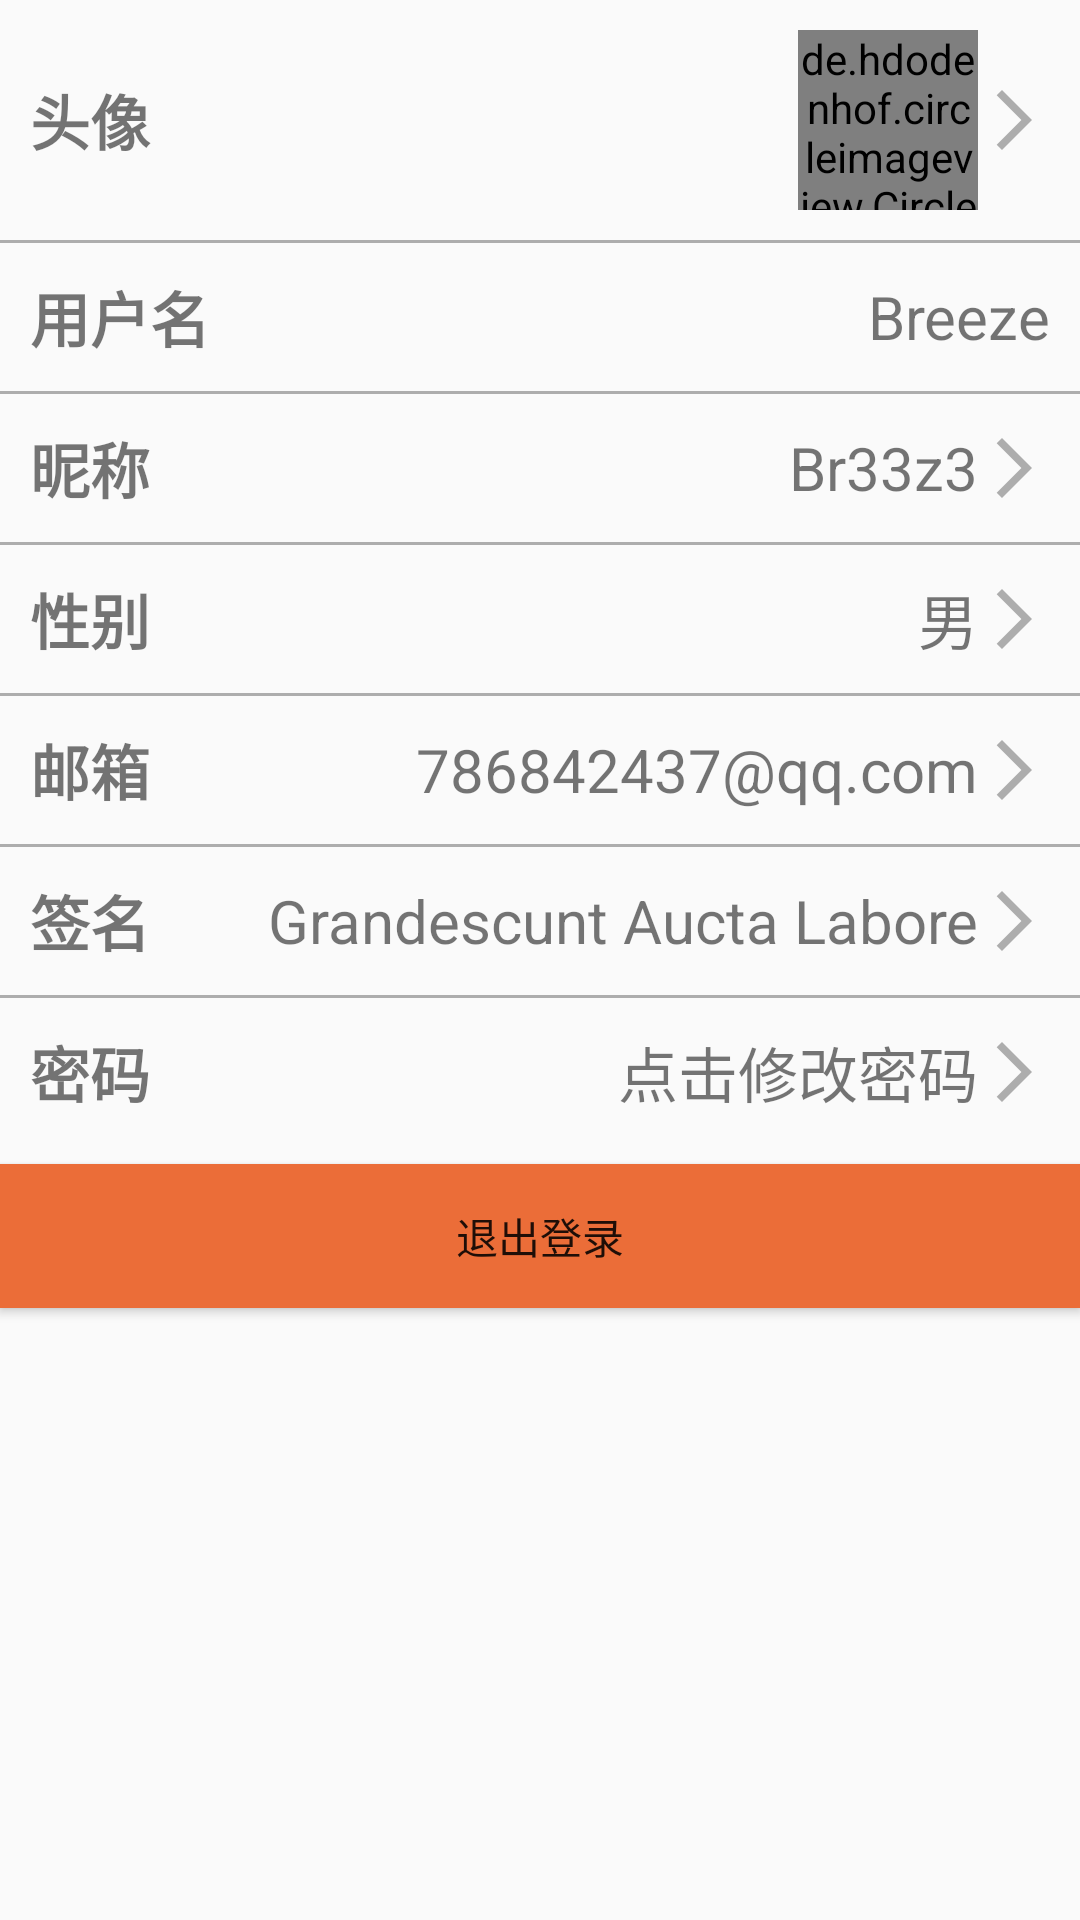

Icon bounding boxes for this 1080 × 1920 phone screenshot, format (x1, y1, x2, y2):
arrow forward: (997, 90, 1032, 150), (997, 438, 1032, 498), (997, 589, 1032, 649), (997, 740, 1032, 800), (997, 891, 1032, 951), (997, 1042, 1032, 1102)
